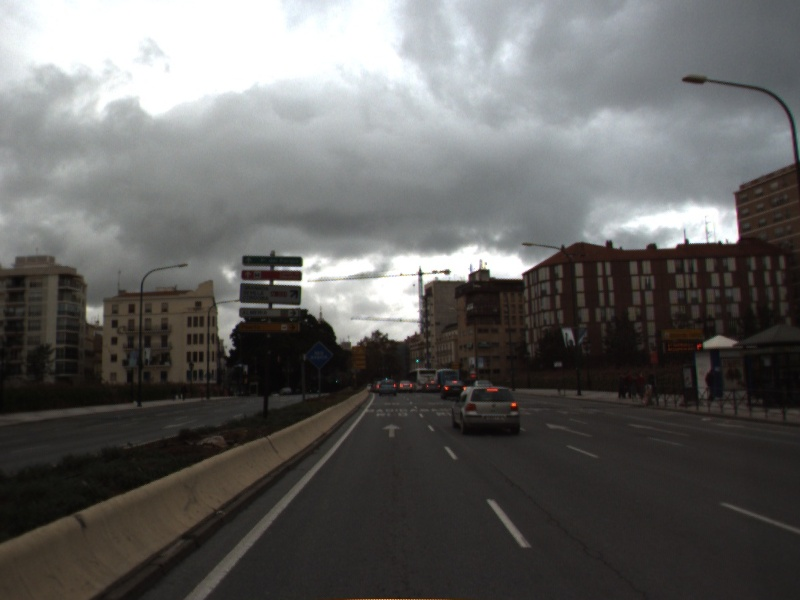STRAIGHT: (625, 421, 693, 439), (543, 421, 596, 439), (379, 422, 405, 440)
